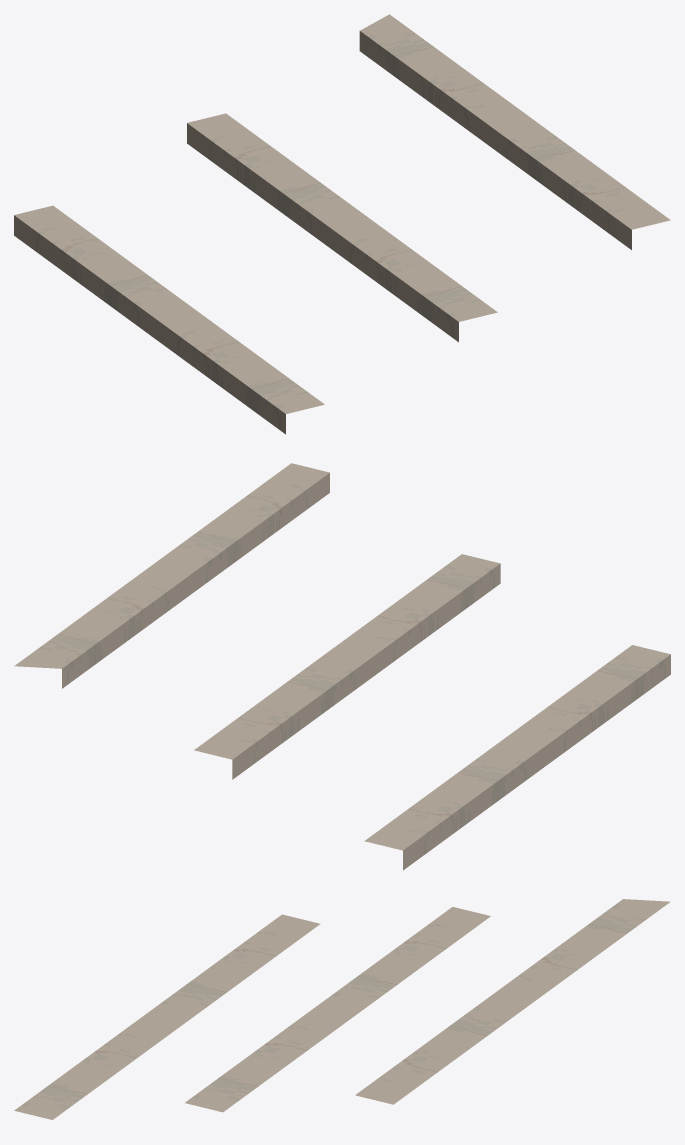
Rendered from kd_stage_135d18_4_14.glb.
3 renders of one model, top to bottom at view 1: azimuth 30°, elevation 25°; view 2: azimuth 150°, elevation 25°; view 3: azimuth 330°, elevation 25°, orthographic.
Visible parts, largest first — view 1: kd_stage_135d18_4_14; view 2: kd_stage_135d18_4_14; view 3: kd_stage_135d18_4_14.
Boxes of the visible parts, <box> form: kd_stage_135d18_4_14: <box>14,14,670,434</box>; kd_stage_135d18_4_14: <box>14,463,670,870</box>; kd_stage_135d18_4_14: <box>14,899,670,1119</box>.
Bounding box in the file's own units: 0.983 × 0.2939 × 1.24.
1 material, 1 textured.
